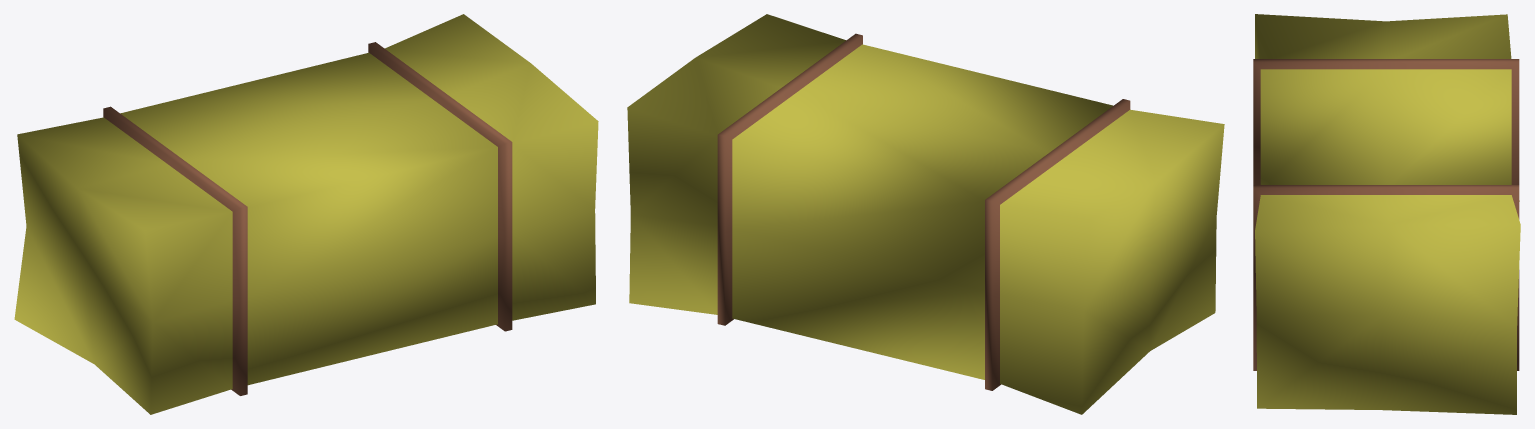
The model's file is Feno_1.fbx.
3 renders of one model, left to right at view 1: azimuth 30°, elevation 25°; view 2: azimuth 150°, elevation 25°; view 3: azimuth 270°, elevation 25°, orthographic. The views are drawn at different scales.
Visible parts, largest first — view 1: Feno_1; view 2: Feno_1; view 3: Feno_1.
Part boxes in pixels (x1,y1,x2,y2): Feno_1: [14, 14, 598, 414]; Feno_1: [627, 14, 1224, 414]; Feno_1: [1253, 14, 1520, 414].
Size of the model in its own units: 0.833 by 1.59 by 0.6534.
